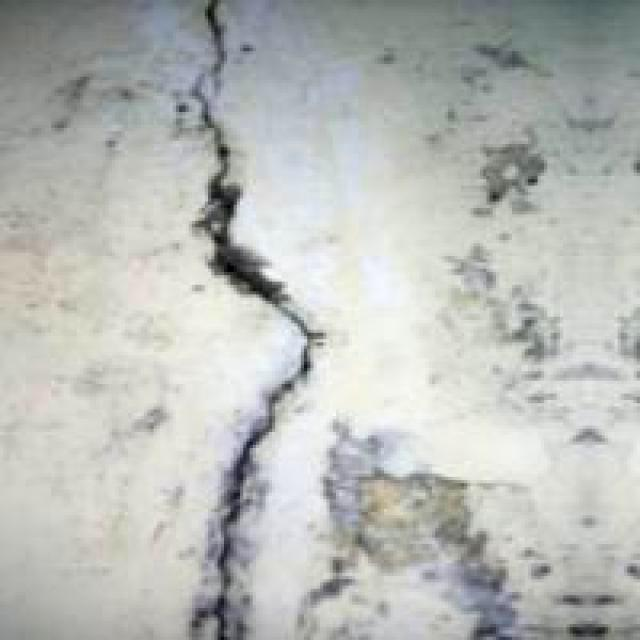SurfaceCrack: (148, 0, 358, 640)
